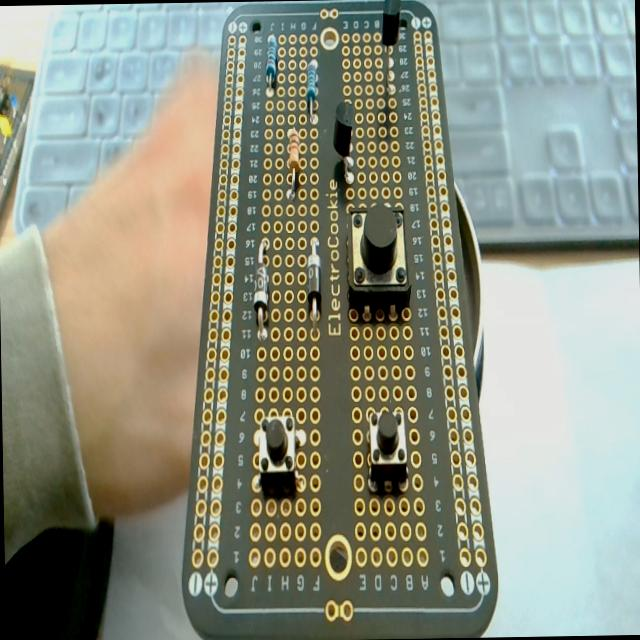diode: (252, 239, 270, 339), (306, 236, 322, 330)
resistor: (286, 128, 301, 202), (264, 32, 278, 92), (306, 59, 319, 122)
switch: (346, 202, 410, 321), (256, 411, 300, 491), (366, 406, 407, 490)
transistor: (378, 0, 402, 129), (332, 98, 356, 186)
